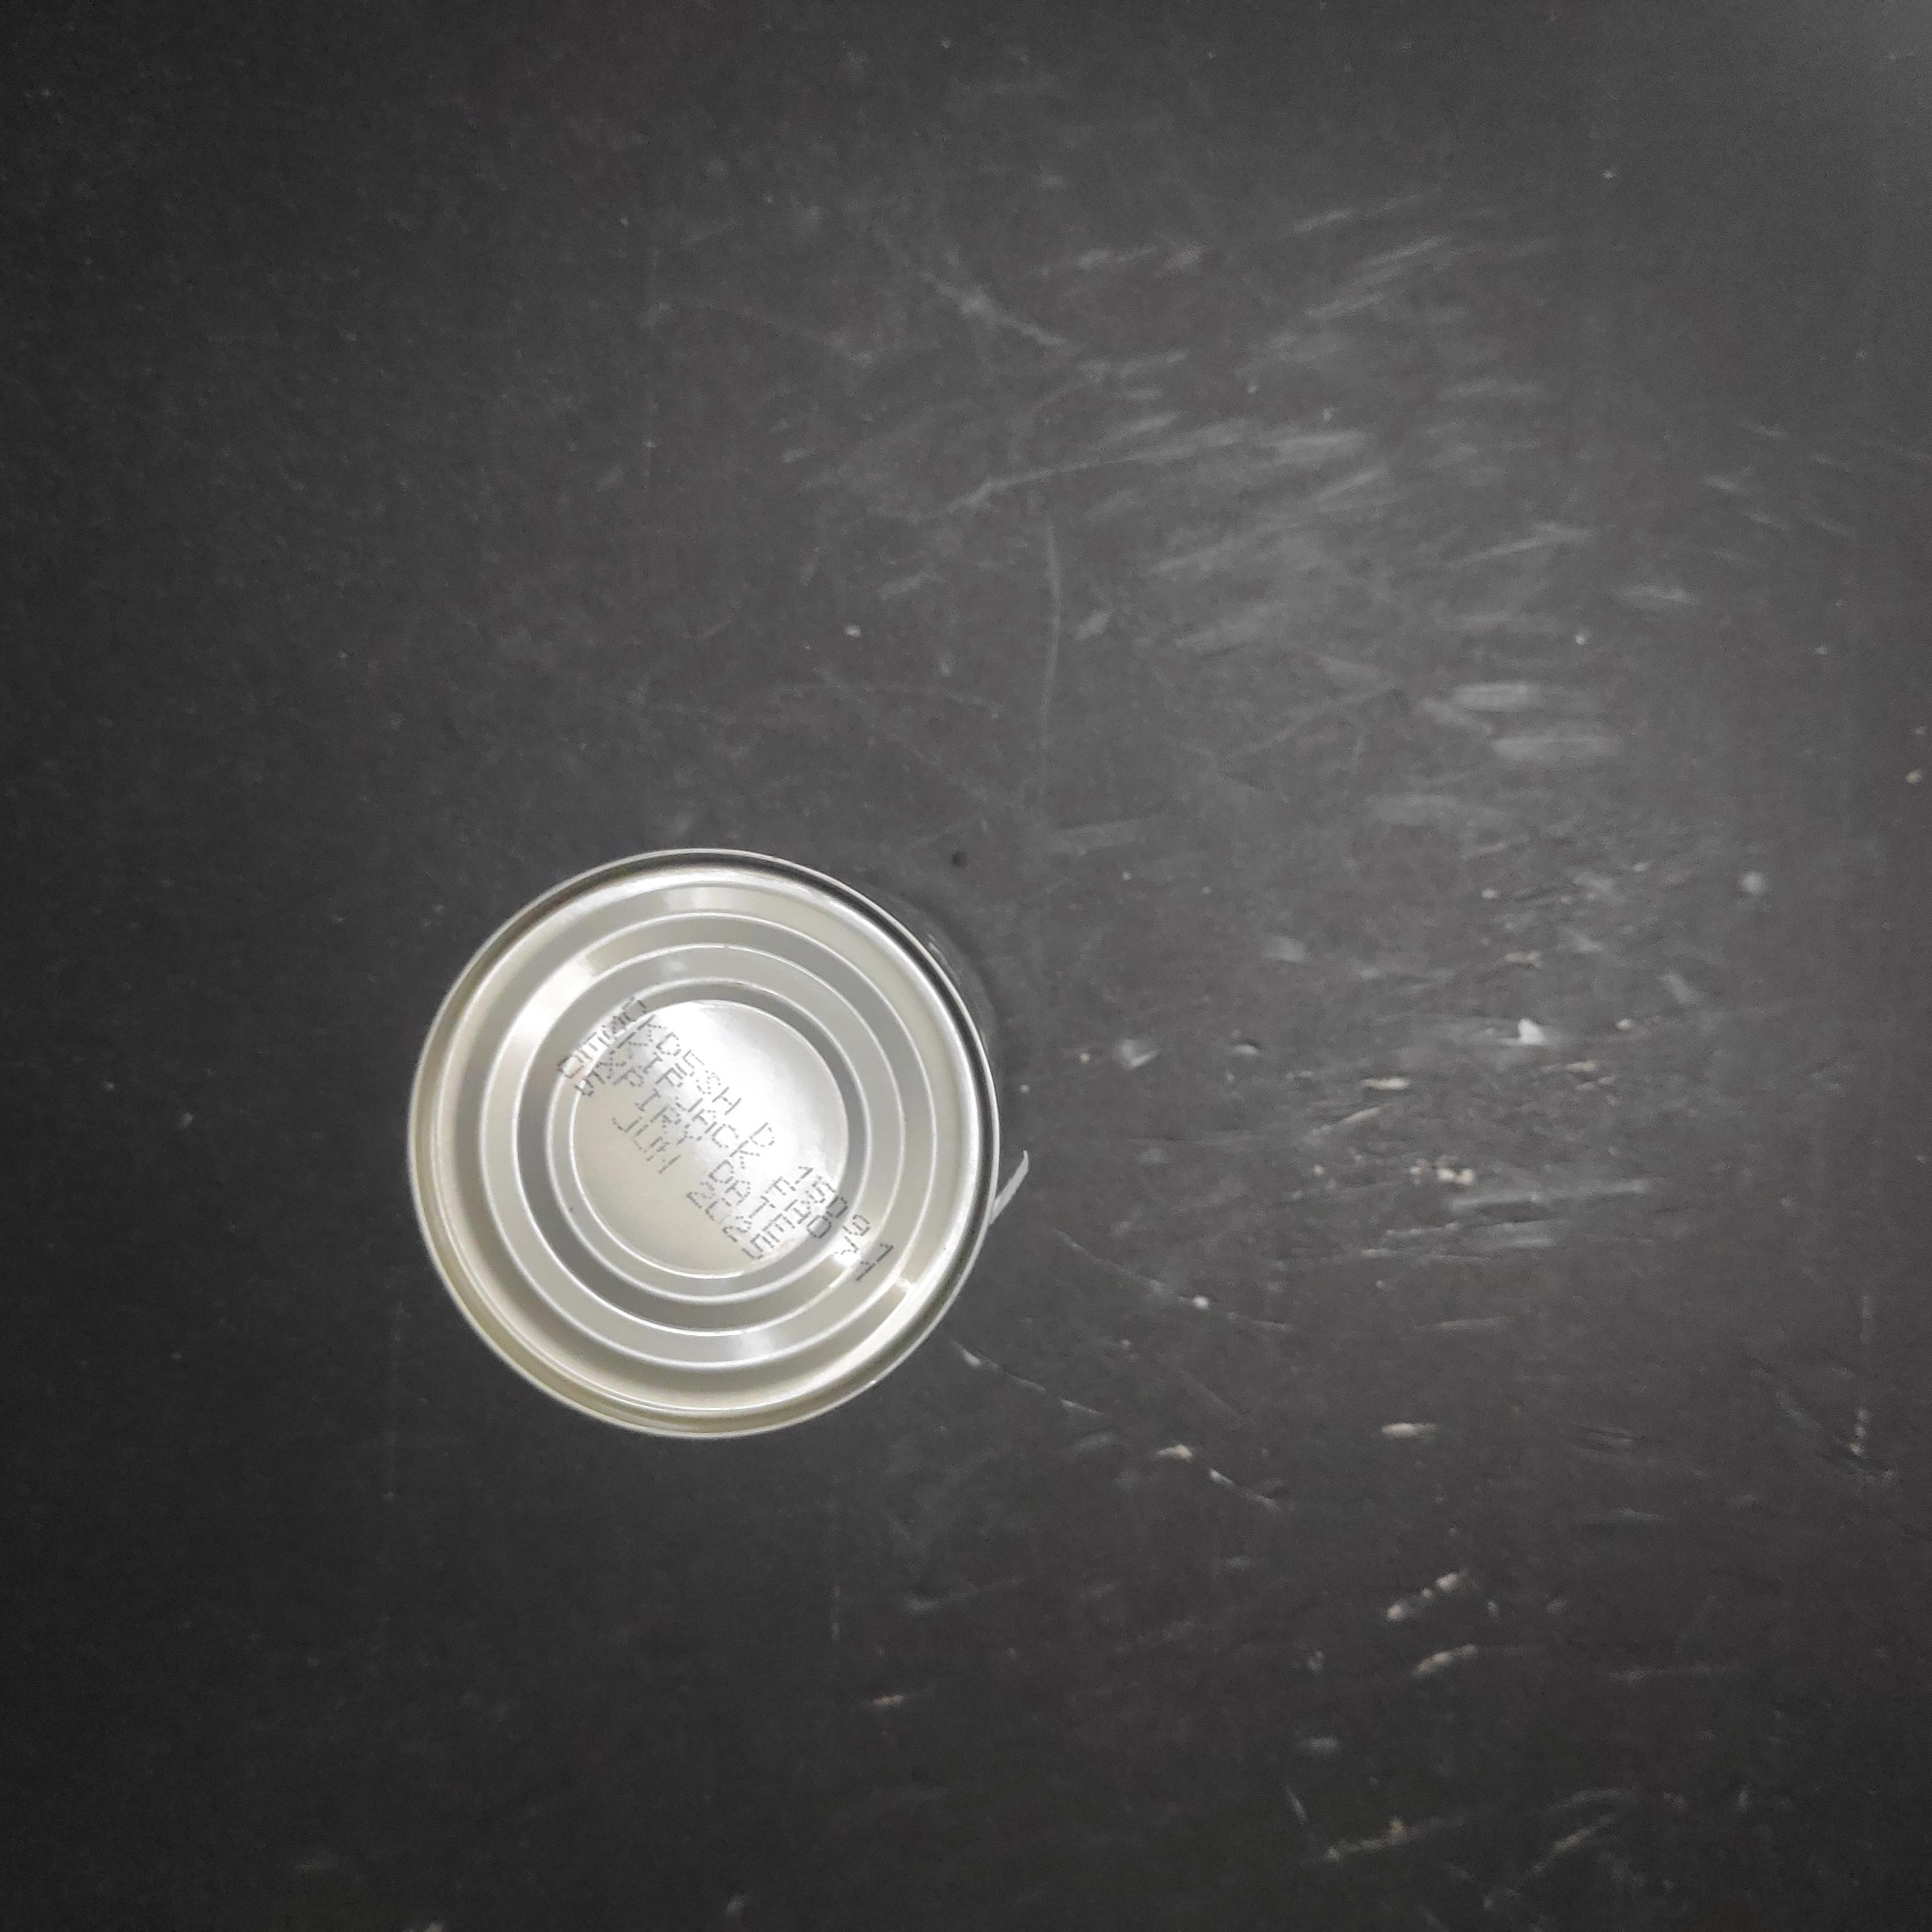No defect: (918, 480, 1545, 1105)
